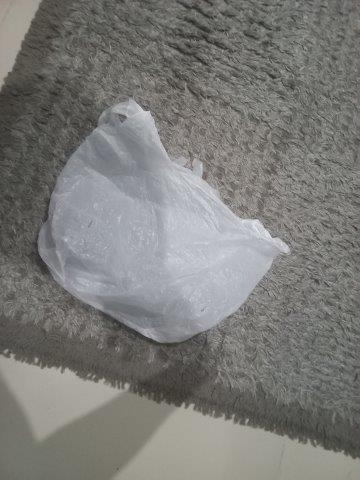plastik: (37, 98, 291, 344)
